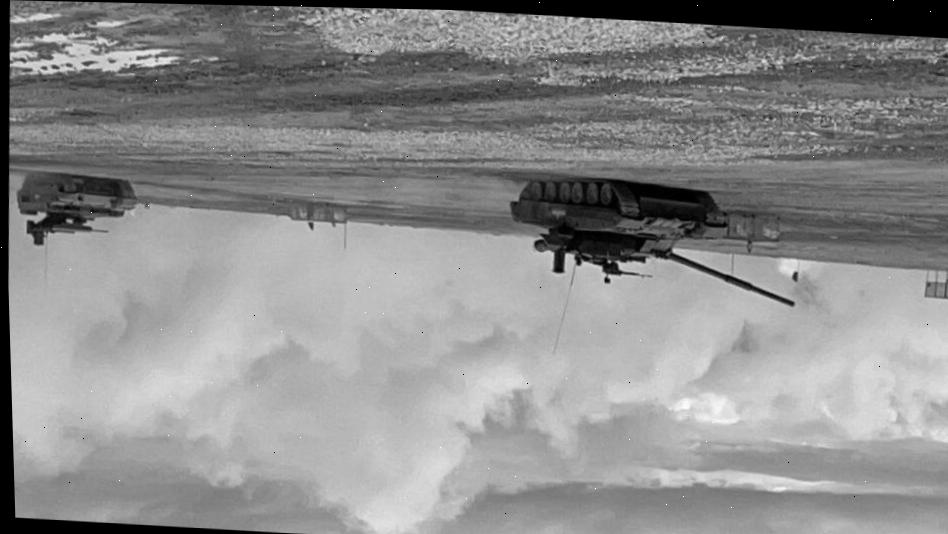tank: (505, 171, 799, 308), (10, 168, 141, 251)
